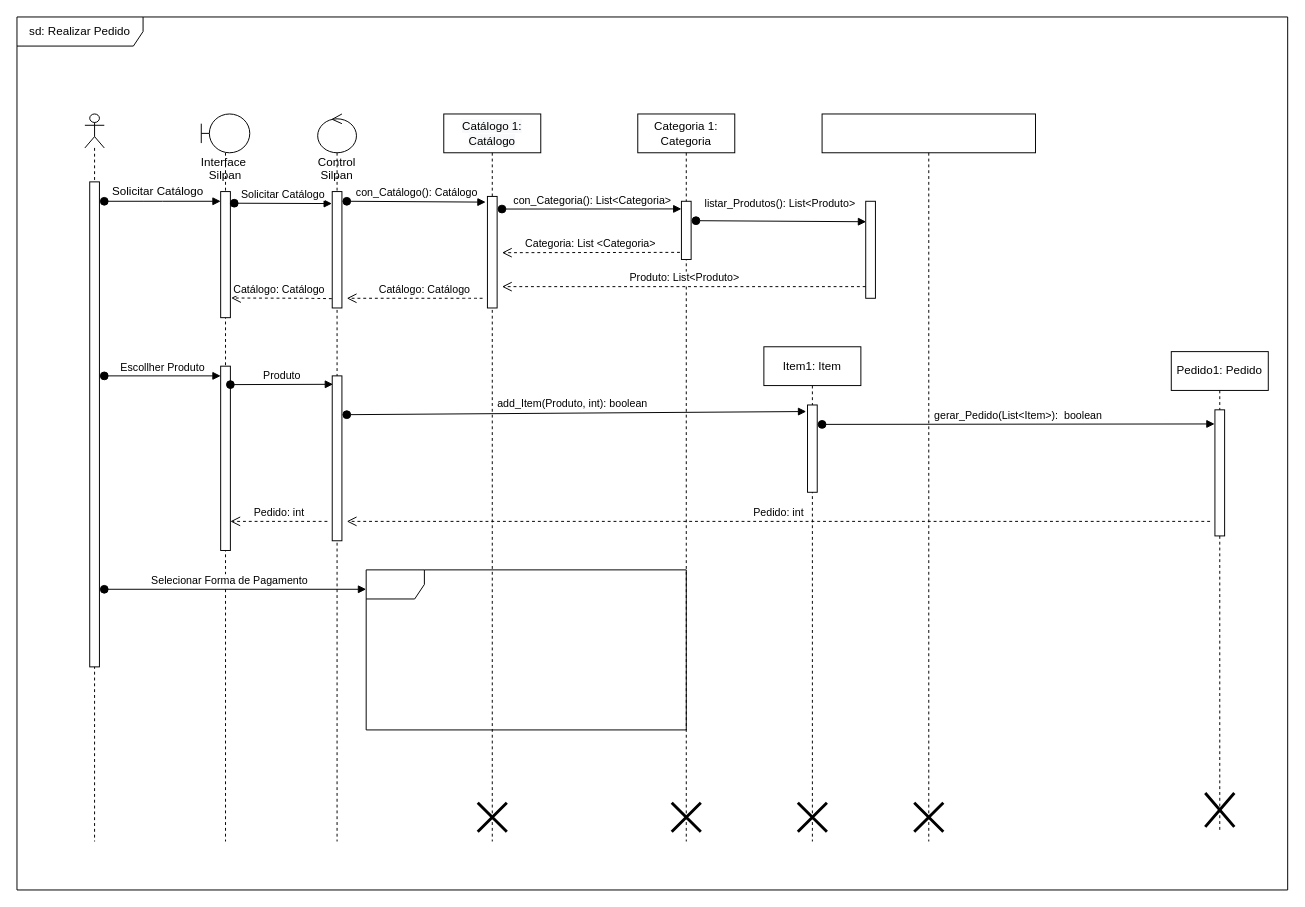
Some shapes in this 1305 by 907 pixel diagram are drawn without their labels. Each missing label, with the box of its shape:
Cliente: (84, 113, 104, 841)
Produto 1: Produto: (821, 113, 1035, 841)
ref: (365, 569, 686, 730)
